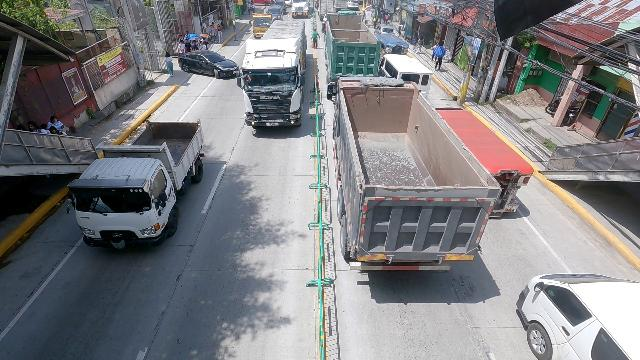car: (178, 49, 241, 80), (266, 6, 283, 22), (273, 0, 287, 15)
jeepney: (432, 106, 531, 222), (378, 33, 409, 60)
truck: (332, 75, 501, 279), (65, 118, 207, 249), (238, 19, 309, 131), (322, 11, 383, 82), (251, 12, 274, 40), (290, 0, 311, 19)
van: (512, 268, 640, 360), (381, 53, 434, 97)
